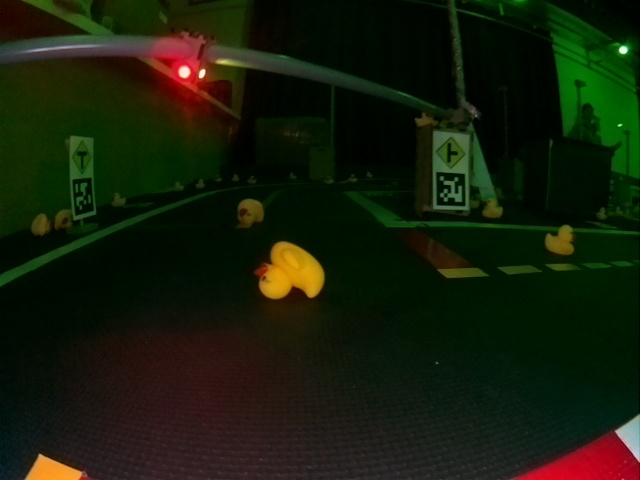Duckie: (255, 241, 324, 299), (545, 225, 575, 255), (237, 199, 263, 225), (31, 214, 51, 237), (55, 209, 73, 230), (483, 201, 503, 218), (112, 195, 122, 205)
Intersection sign: (435, 133, 467, 170), (72, 138, 93, 171)
QR code: (434, 176, 465, 209), (72, 180, 93, 216)
Traffic light: (172, 29, 211, 83)
